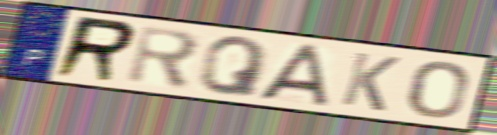A: (256, 42, 330, 107)
K: (337, 50, 404, 115)
O: (406, 59, 471, 120)
Q: (196, 35, 271, 99)
R: (49, 14, 140, 85), (124, 23, 203, 93)
